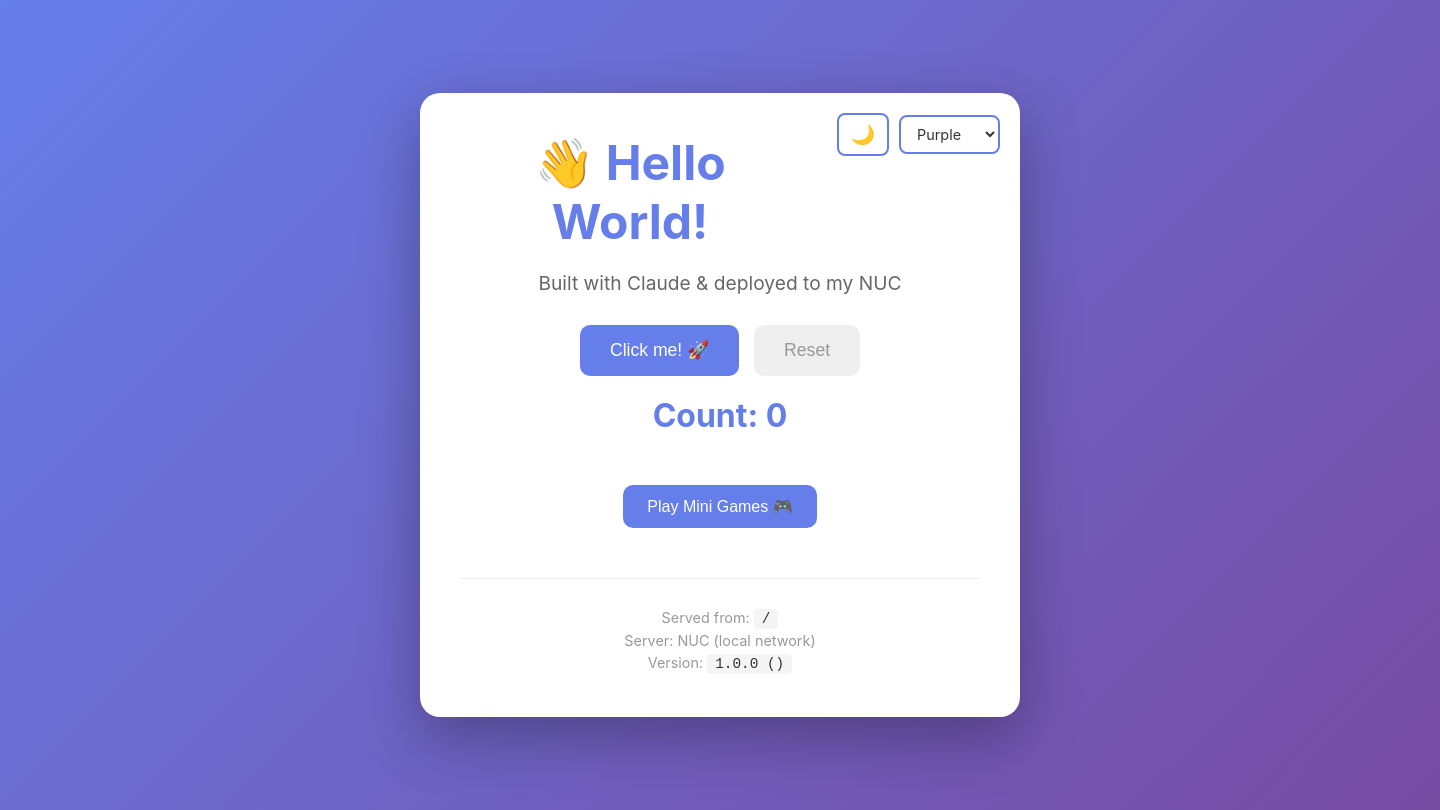
App › increments counter when button is clicked
Click the button with aria-label "increment counter": (660, 350) [580, 325, 739, 376]
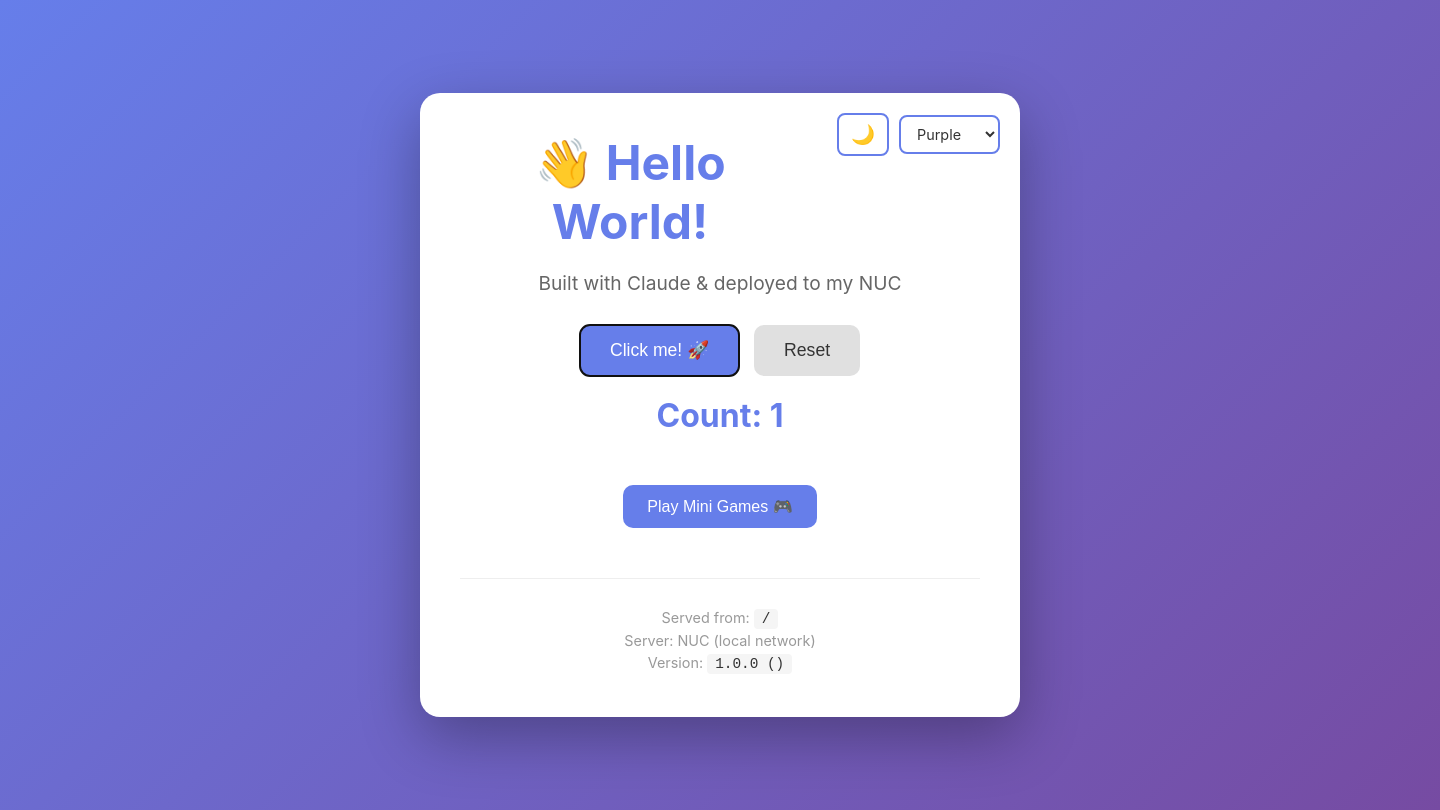
Check: the text "Count: 1" is shown, box [656, 396, 783, 435]
